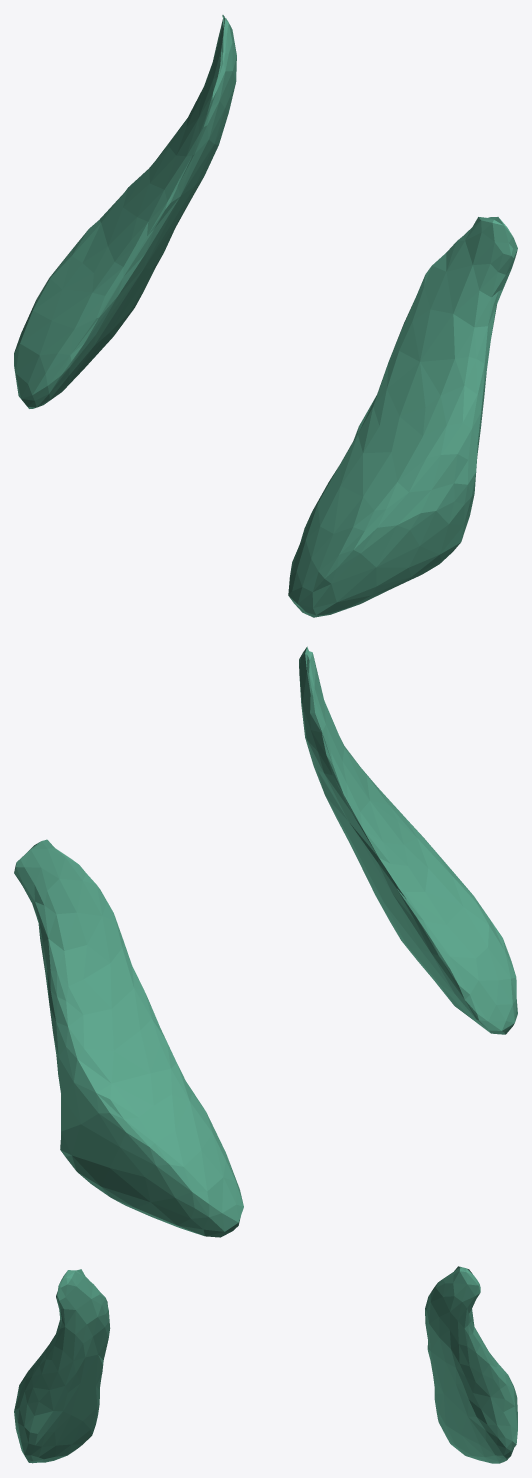
The picture shows the model from 3 angles, top to bottom: view 1: azimuth 30°, elevation 25°; view 2: azimuth 150°, elevation 25°; view 3: azimuth 270°, elevation 25°; orthographic projection. The views are drawn at different scales.
Visible parts, largest first — view 1: 608.obj; view 2: 608.obj; view 3: 608.obj.
Boxes of the visible parts, left/top/right/bottom form: 608.obj: left=14, top=15, right=517, bottom=617; 608.obj: left=14, top=646, right=517, bottom=1237; 608.obj: left=14, top=1266, right=517, bottom=1463.
Size of the model in its own units: 887 by 1359 by 2438.
